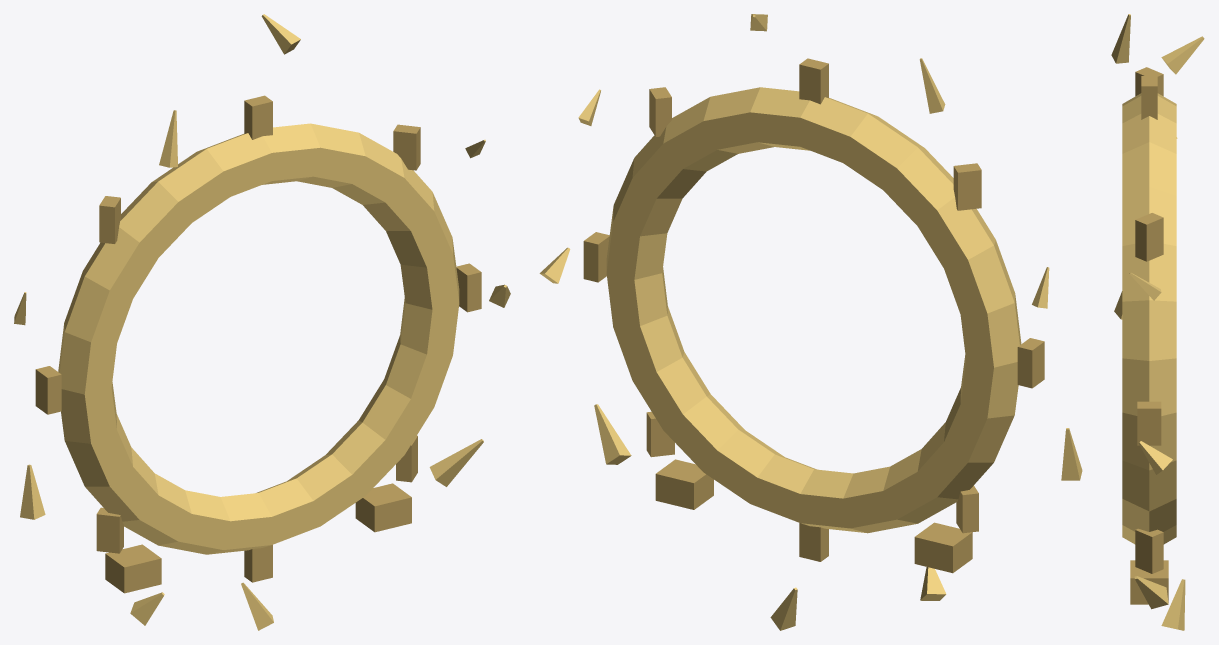
Rendered from gate.glb.
3 renders of one model, left to right at view 1: azimuth 30°, elevation 25°; view 2: azimuth 150°, elevation 25°; view 3: azimuth 270°, elevation 25°, orthographic. The views are drawn at different scales.
Visible parts, largest first — view 1: gate_ring, gate_foot_l, gate_foot_r, gate_notch_4, gate_notch_2, gate_notch_5, gate_notch_1, gate_notch_0, gate_shard_8, gate_notch_3, gate_notch_6, gate_shard_5 (+2 smaller); view 2: gate_ring, gate_foot_l, gate_foot_r, gate_notch_3, gate_notch_4, gate_notch_2, gate_notch_0, gate_shard_8, gate_notch_6, gate_notch_1, gate_notch_5, gate_notch_7; view 3: gate_ring, gate_notch_1, gate_notch_7, gate_notch_0, gate_foot_r, gate_shard_7, gate_notch_2, gate_shard_8, gate_shard_2, gate_shard_3, gate_shard_0, gate_notch_3 (+1 smaller).
Part boxes in pixels (left/top/right/bottom): gate_ring: left=58, top=123, right=459, bottom=554; gate_foot_l: left=105, top=544, right=161, bottom=593; gate_foot_r: left=355, top=483, right=411, bottom=532; gate_notch_4: left=35, top=366, right=61, bottom=414; gate_notch_2: left=244, top=95, right=272, bottom=139; gate_notch_5: left=96, top=507, right=123, bottom=553; gate_notch_1: left=393, top=124, right=420, bottom=170; gate_notch_0: left=456, top=263, right=481, bottom=312; gate_shard_8: left=429, top=439, right=483, bottom=486; gate_notch_3: left=99, top=196, right=120, bottom=243; gate_notch_6: left=244, top=545, right=272, bottom=582; gate_shard_5: left=20, top=464, right=45, bottom=519; gate_ring: left=606, top=87, right=1021, bottom=533; gate_foot_l: left=914, top=522, right=972, bottom=573; gate_foot_r: left=655, top=459, right=713, bottom=509; gate_notch_3: left=953, top=163, right=981, bottom=210; gate_notch_4: left=1017, top=338, right=1044, bottom=388; gate_notch_2: left=799, top=58, right=828, bottom=104; gate_notch_0: left=583, top=232, right=609, bottom=282; gate_shard_8: left=594, top=404, right=631, bottom=464; gate_notch_6: left=799, top=523, right=828, bottom=561; gate_notch_1: left=649, top=87, right=671, bottom=136; gate_notch_5: left=956, top=485, right=978, bottom=533; gate_notch_7: left=646, top=411, right=674, bottom=457; gate_ring: left=1122, top=93, right=1176, bottom=544; gate_notch_1: left=1135, top=213, right=1163, bottom=261; gate_notch_7: left=1135, top=528, right=1163, bottom=573; gate_notch_0: left=1137, top=401, right=1161, bottom=445; gate_foot_r: left=1130, top=560, right=1168, bottom=604; gate_shard_7: left=1161, top=579, right=1185, bottom=630; gate_notch_2: left=1141, top=76, right=1157, bottom=119; gate_shard_8: left=1134, top=576, right=1168, bottom=609; gate_shard_2: left=1161, top=36, right=1204, bottom=74; gate_shard_3: left=1111, top=14, right=1130, bottom=63; gate_shard_0: left=1138, top=441, right=1172, bottom=474; gate_notch_3: left=1135, top=67, right=1163, bottom=96.
Size of the model in its own units: 12.24 by 13.82 by 1.94.
